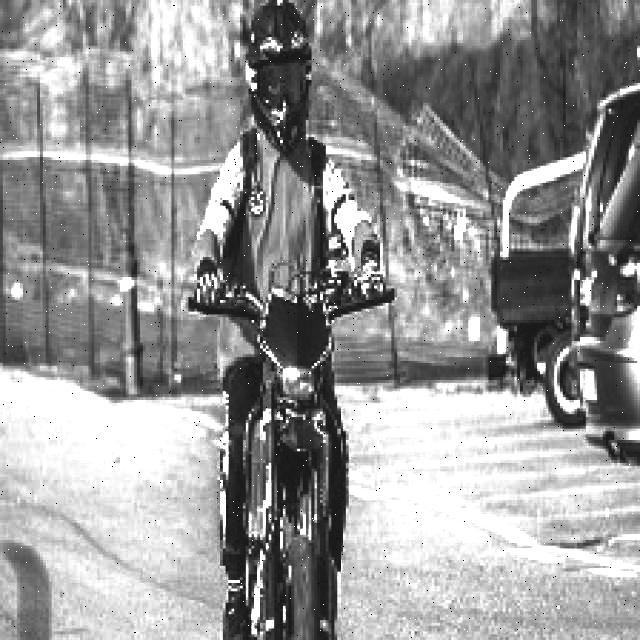Bike: (210, 265, 351, 639)
